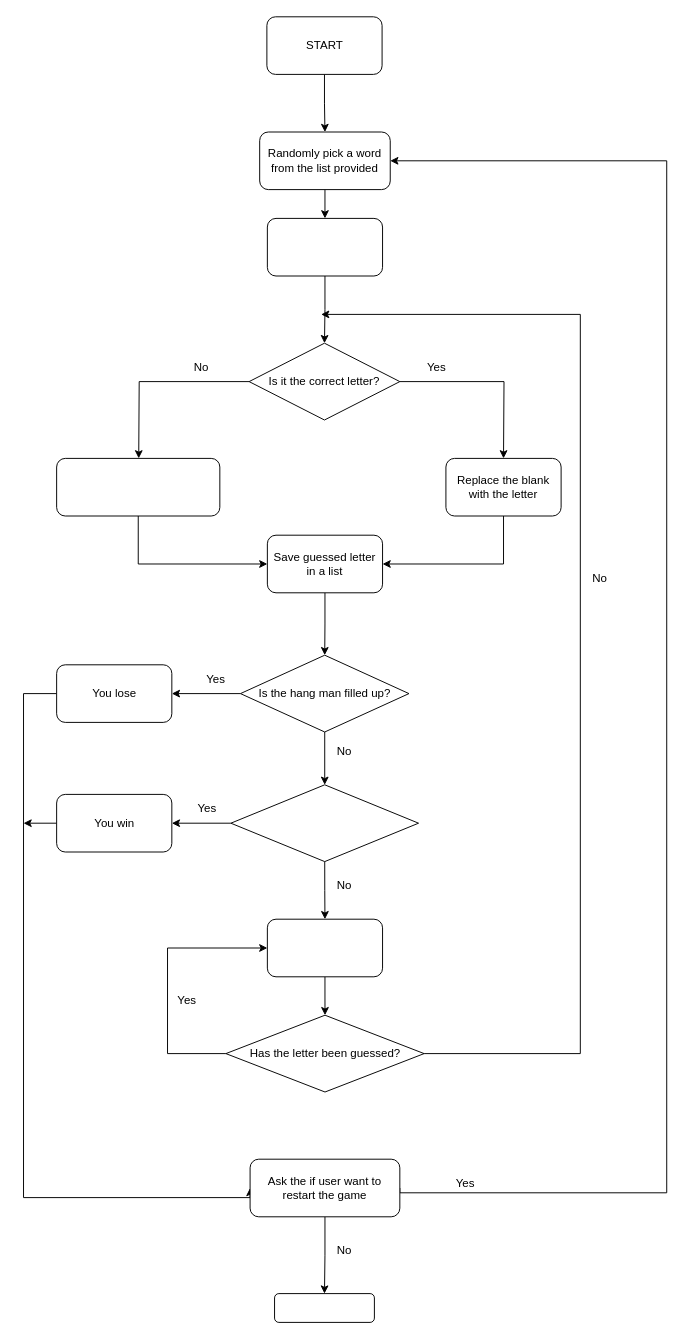
This 691x1339 diagram has some shape labels left out. Here are the shapes that lost their labels. From the top down, the centre of each, then its label:
At pixel 324 246: "Player guesses the first letter".
At pixel 138 486: "Add an element to the hang man".
At pixel 324 823: "Have all blanks been filled?".
At pixel 324 947: "Ask user to guess the next letter".
At pixel 324 1307: "END".
